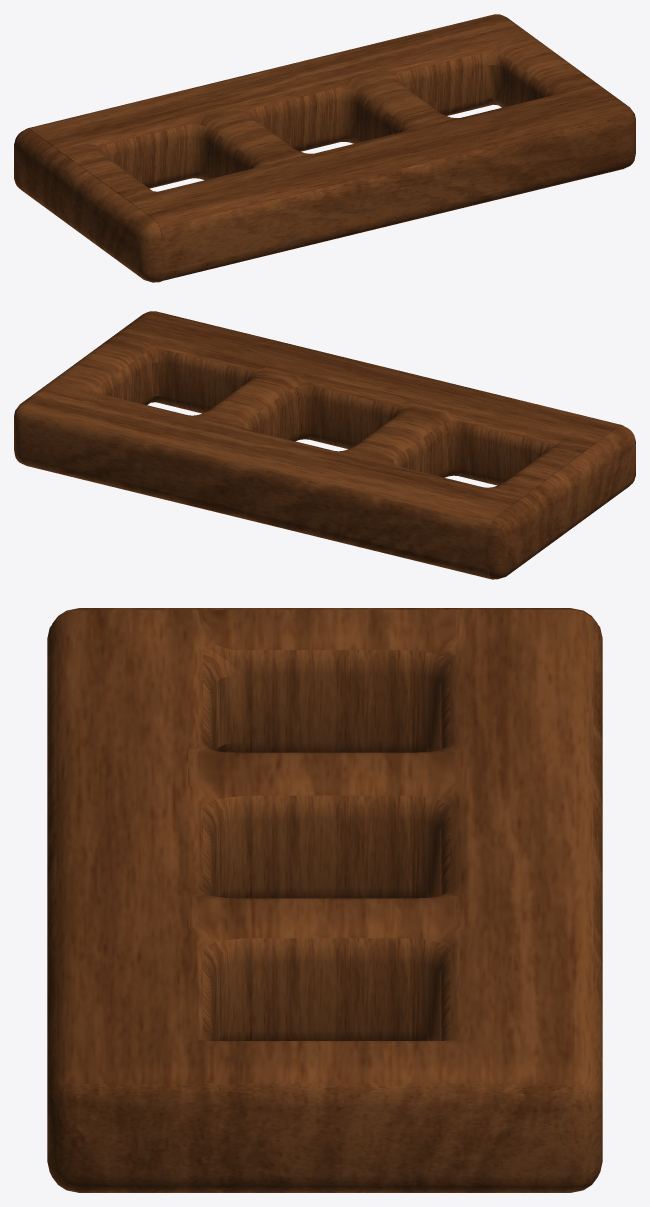
The model's file is Fixer_3.fbx.
3 renders of one model, top to bottom at view 1: azimuth 30°, elevation 25°; view 2: azimuth 150°, elevation 25°; view 3: azimuth 270°, elevation 25°, orthographic. The views are drawn at different scales.
Visible parts, largest first — view 1: Fixer.001; view 2: Fixer.001; view 3: Fixer.001.
Part boxes in pixels (<box>): Fixer.001: <box>14,14,635,282</box>; Fixer.001: <box>14,311,635,579</box>; Fixer.001: <box>47,608,602,1192</box>.
Size of the model in its own units: 79.5 by 9.58 by 38.6.
